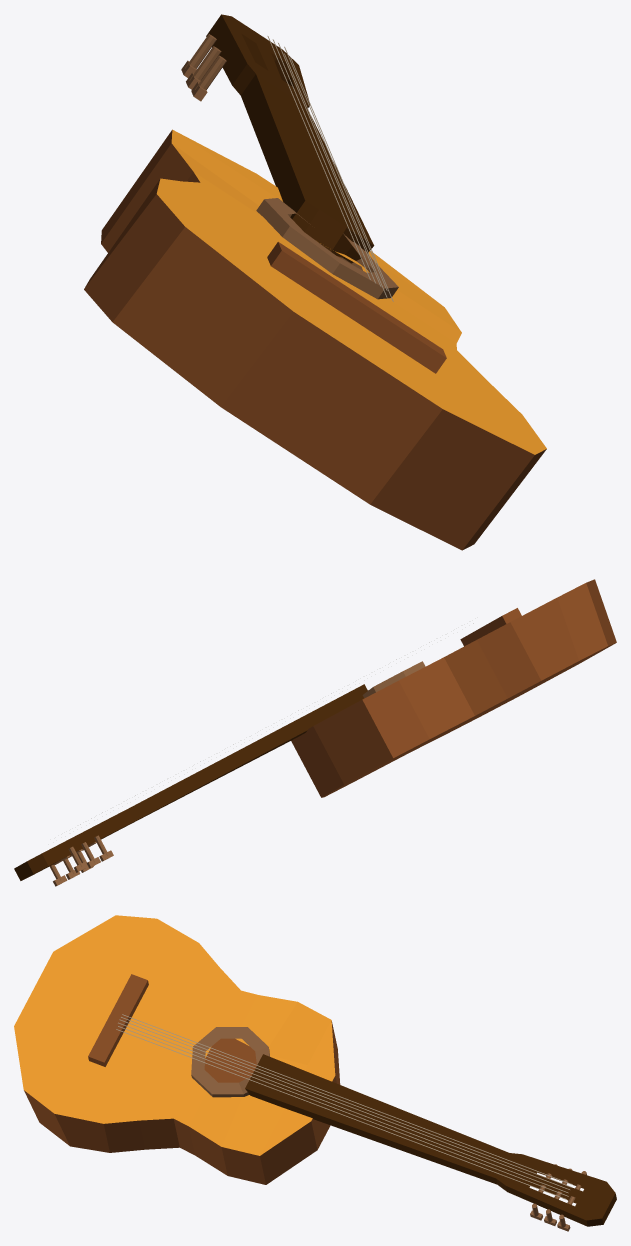
The model's file is guitar.glb.
3 renders of one model, top to bottom at view 1: azimuth 30°, elevation 25°; view 2: azimuth 150°, elevation 25°; view 3: azimuth 270°, elevation 25°, orthographic. The views are drawn at different scales.
Parts seen in each view (by area): view 1: Plane; view 2: Plane; view 3: Plane.
Boxes of the visible parts, x1,y1,x2,y2 form: Plane: (84, 14, 546, 550); Plane: (14, 579, 616, 886); Plane: (14, 915, 616, 1231).
Size of the model in its own units: 2.3 by 1.28 by 3.75.
